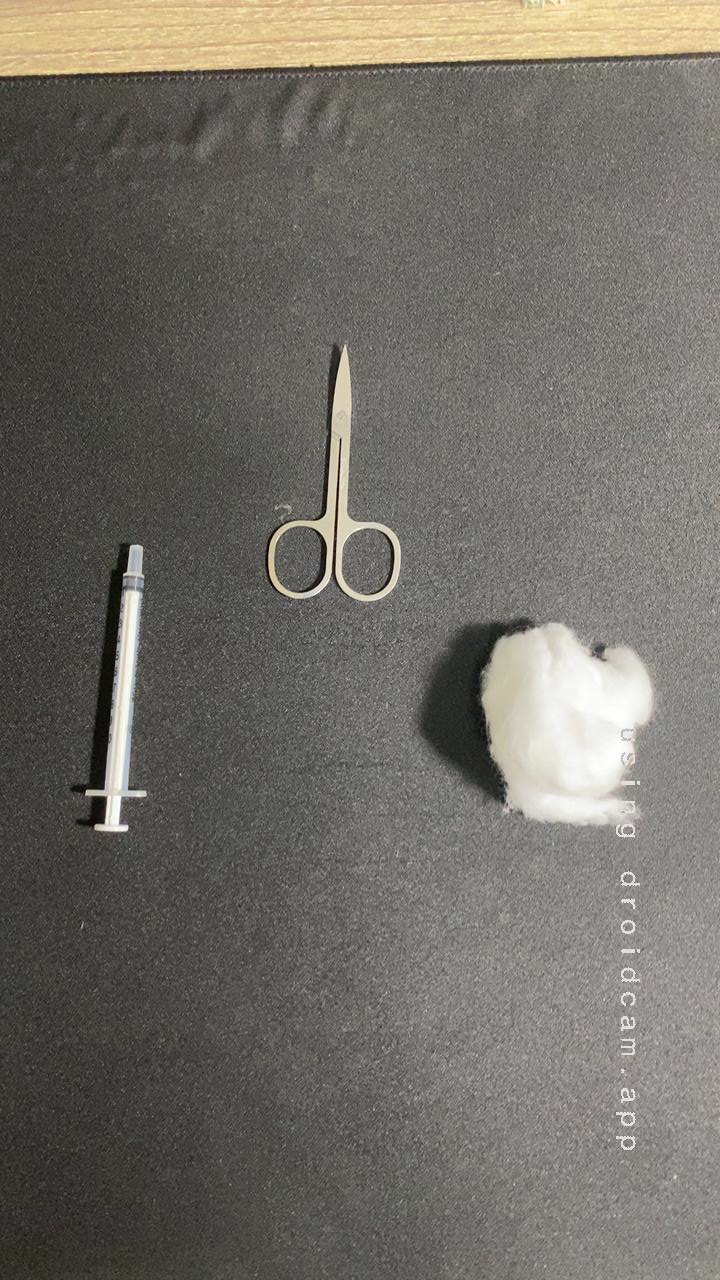cotton: (448, 594, 693, 858)
scissor: (241, 330, 418, 616)
syringe: (45, 528, 205, 848)
